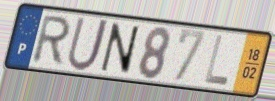7: (173, 27, 209, 85)
8: (136, 25, 171, 82)
L: (202, 33, 231, 88)
N: (99, 21, 141, 77)
R: (28, 14, 73, 67)
U: (65, 15, 112, 73)
